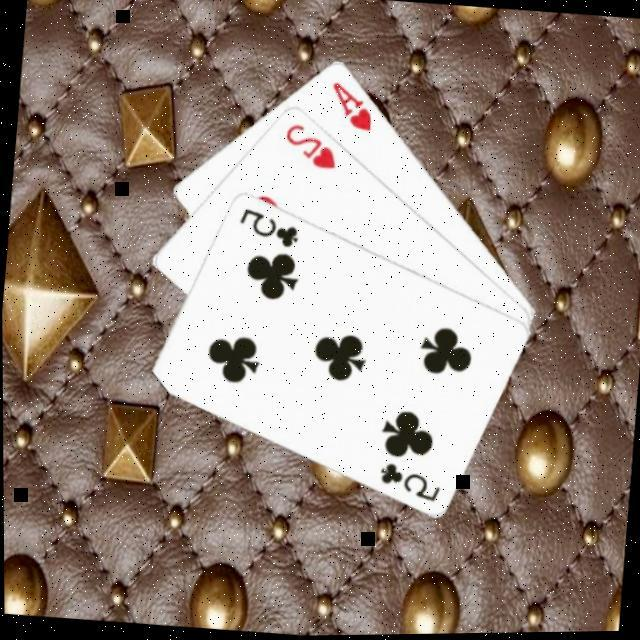2H: (277, 116, 341, 172)
5C: (232, 201, 302, 250), (372, 456, 442, 504)
AH: (323, 75, 378, 134)
